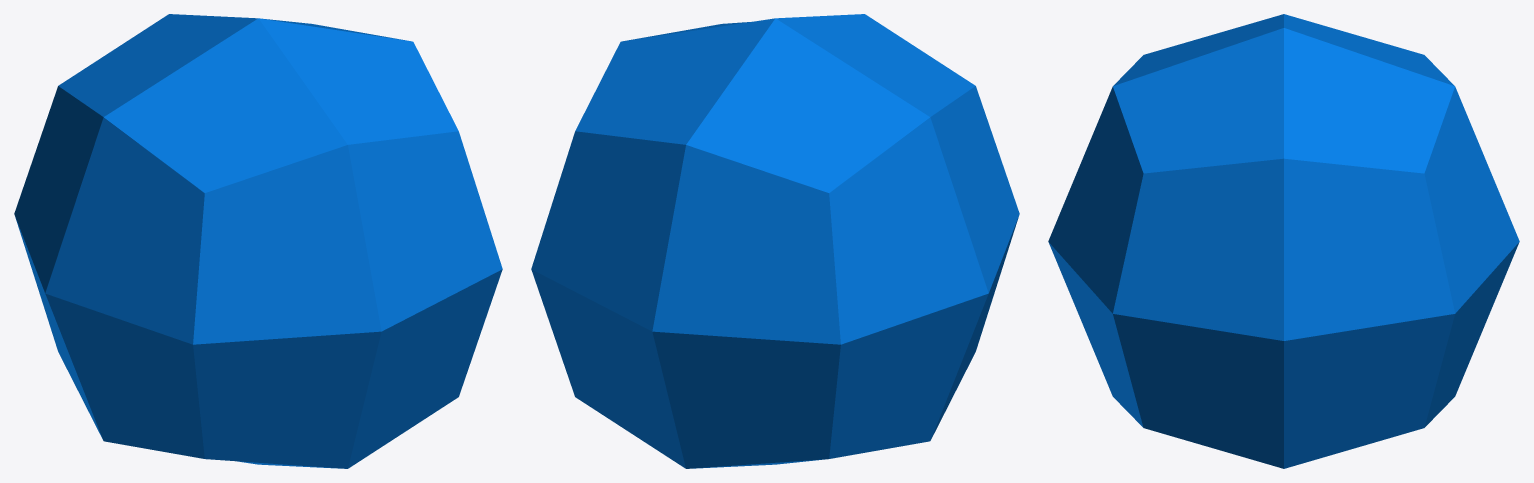
Rendered from round-black-blue.glb.
3 views of the same model, side by side, from view 1: azimuth 30°, elevation 25°; view 2: azimuth 150°, elevation 25°; view 3: azimuth 270°, elevation 25° (orthographic). The views are drawn at different scales.
Visible parts, largest first — view 1: Cube; view 2: Cube; view 3: Cube.
Boxes of the visible parts, x1,y1,x2,y2 form: Cube: (14, 14, 502, 468); Cube: (531, 14, 1019, 468); Cube: (1048, 14, 1519, 468).
Size of the model in its own units: 1.68 by 1.68 by 1.68.
